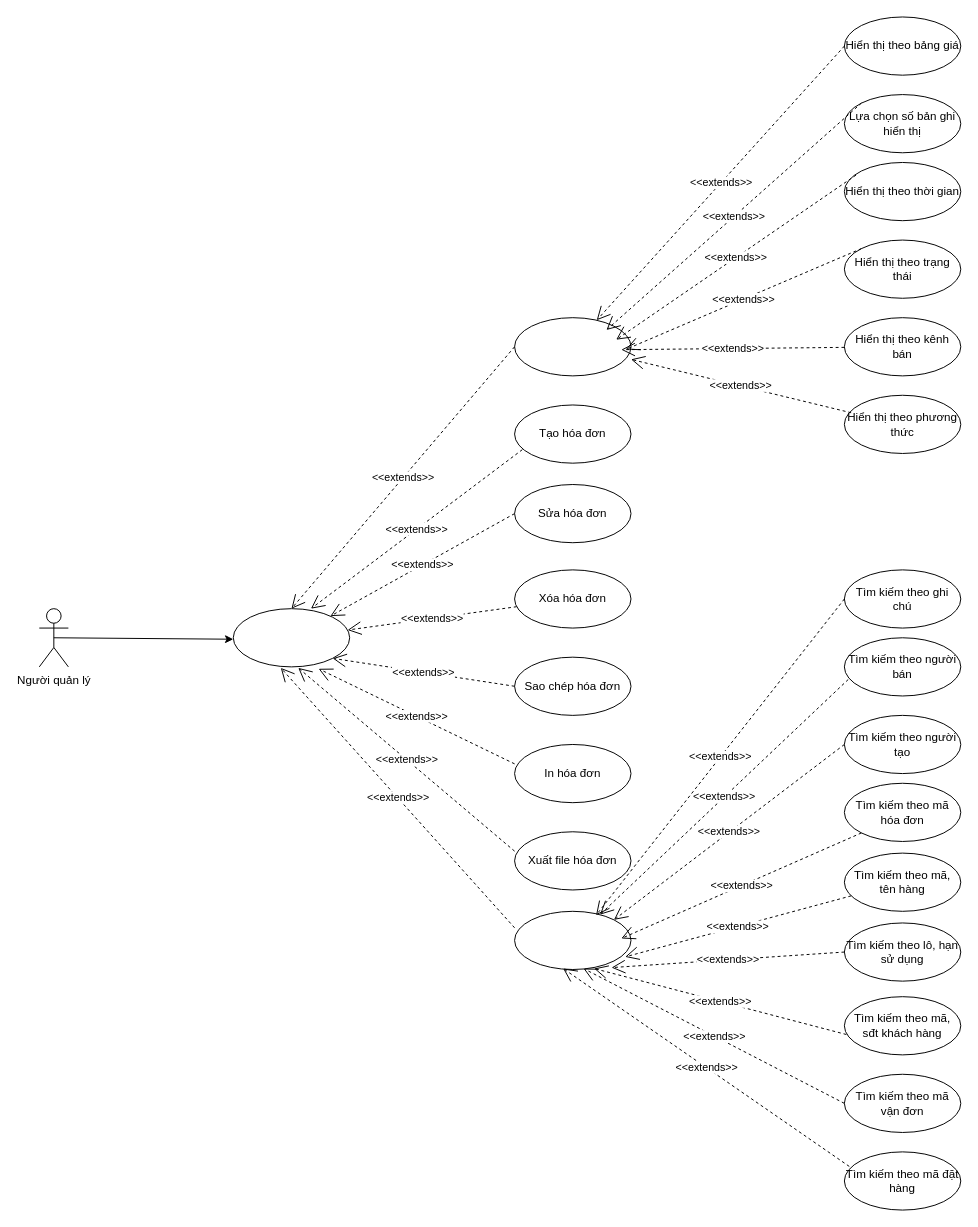
Some shapes in this 978 by 1227 pixel diagram are drawn without their labels. Here are the shapes that lost their labels. From the top down, the centre of each, then its label:
At (x=572, y=346): "Lựa chọn hiển thị danh sách hóa đơn".
At (x=291, y=637): "Quản lý hóa đơn".
At (x=572, y=940): "Tìm kiếm hóa đơn".
